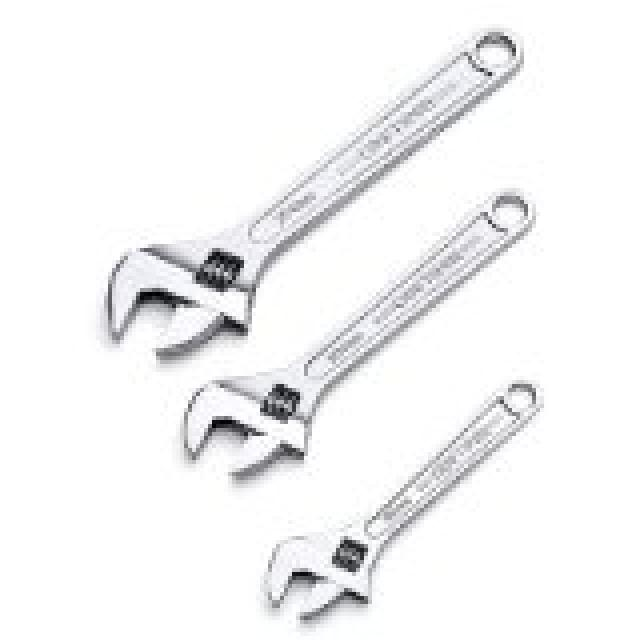wrench: (62, 115, 382, 368), (225, 478, 640, 621)
